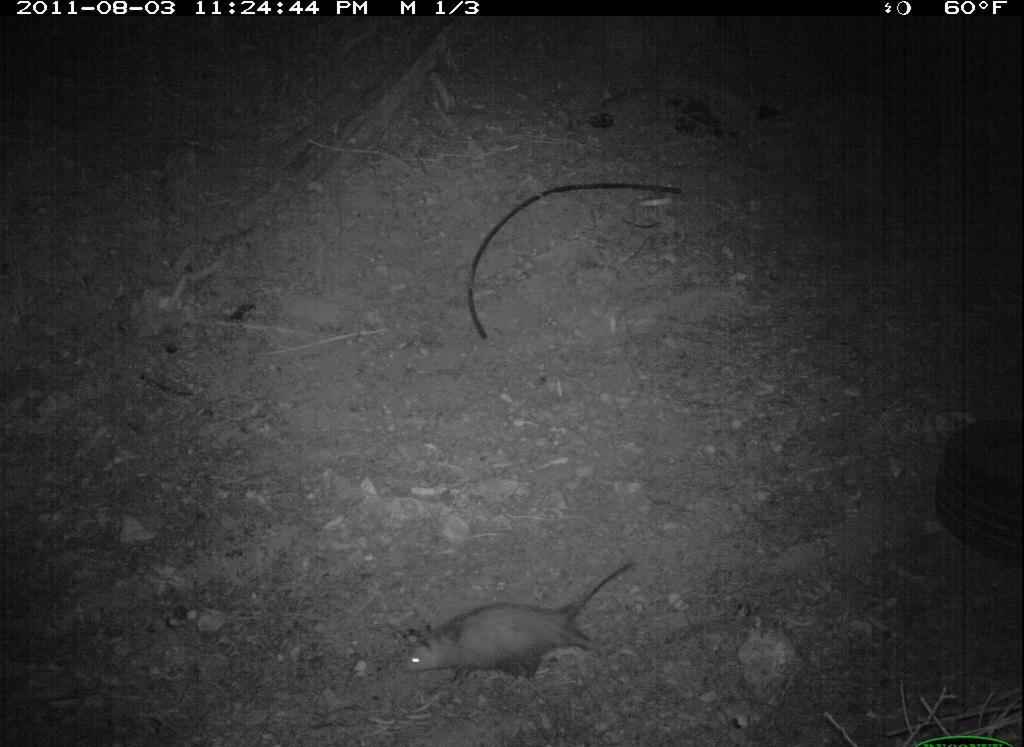opossum: (399, 559, 641, 687)
